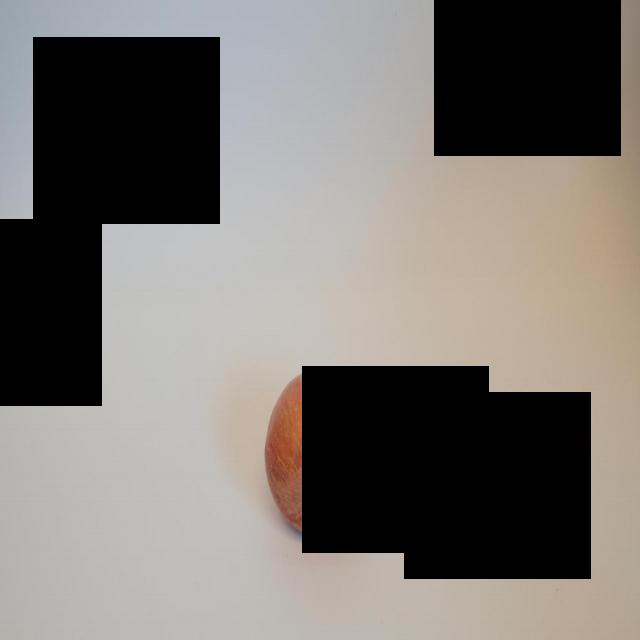apple: (266, 360, 377, 556)
